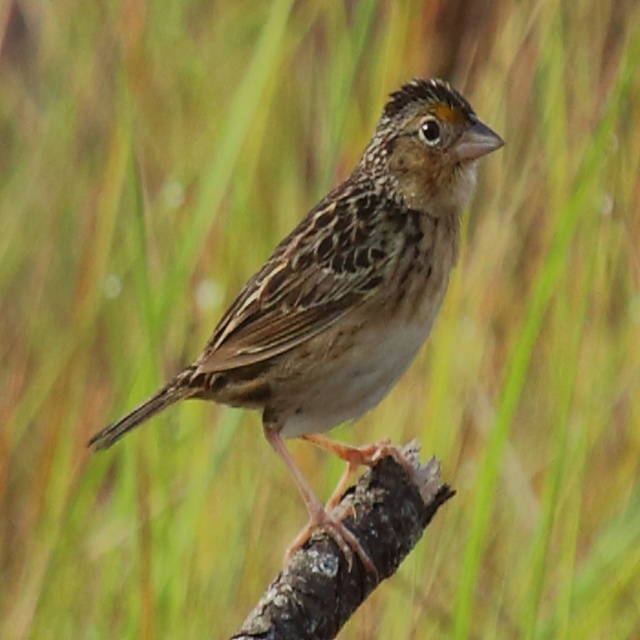Sparrow: (84, 76, 507, 586)
